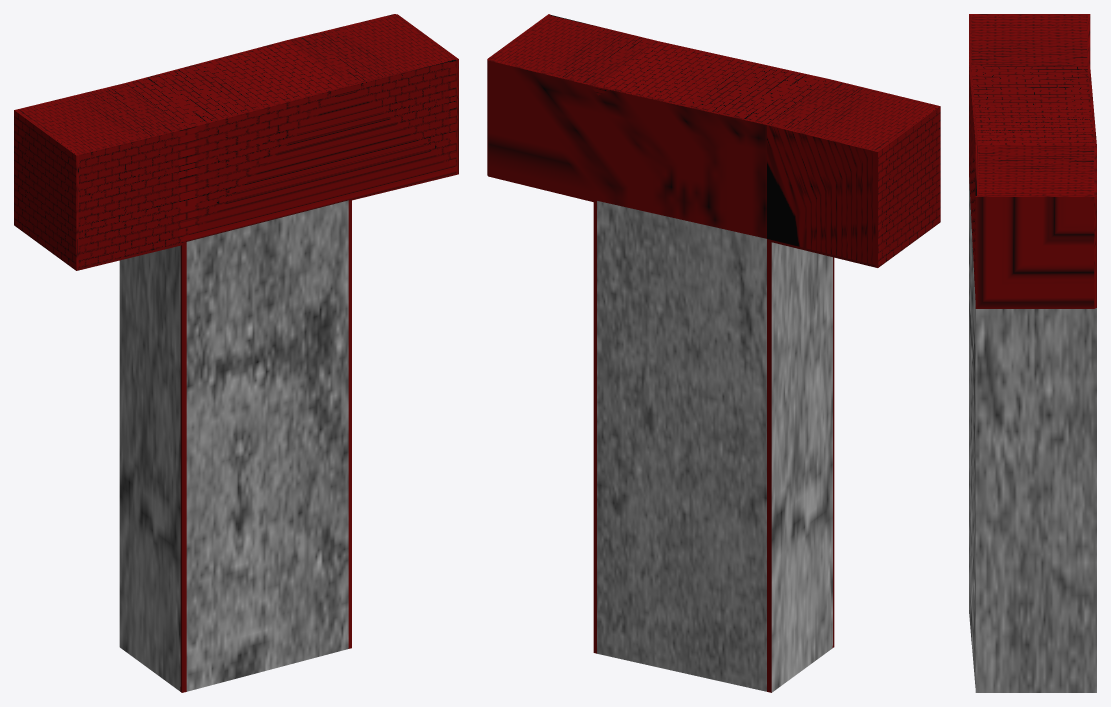
The model's file is RailTeaching.glb.
3 renders of one model, left to right at view 1: azimuth 30°, elevation 25°; view 2: azimuth 150°, elevation 25°; view 3: azimuth 270°, elevation 25°, orthographic. The views are drawn at different scales.
Parts seen in each view (by area): view 1: Boundaries-col; view 2: Boundaries-col; view 3: Boundaries-col.
Part boxes in pixels (x1,y1,x2,y2): Boundaries-col: (14, 14, 458, 692); Boundaries-col: (487, 14, 940, 692); Boundaries-col: (969, 14, 1096, 692).
Bounding box in the file's own units: 44.99 × 62.73 × 13.29.
3 materials, 2 textured.
